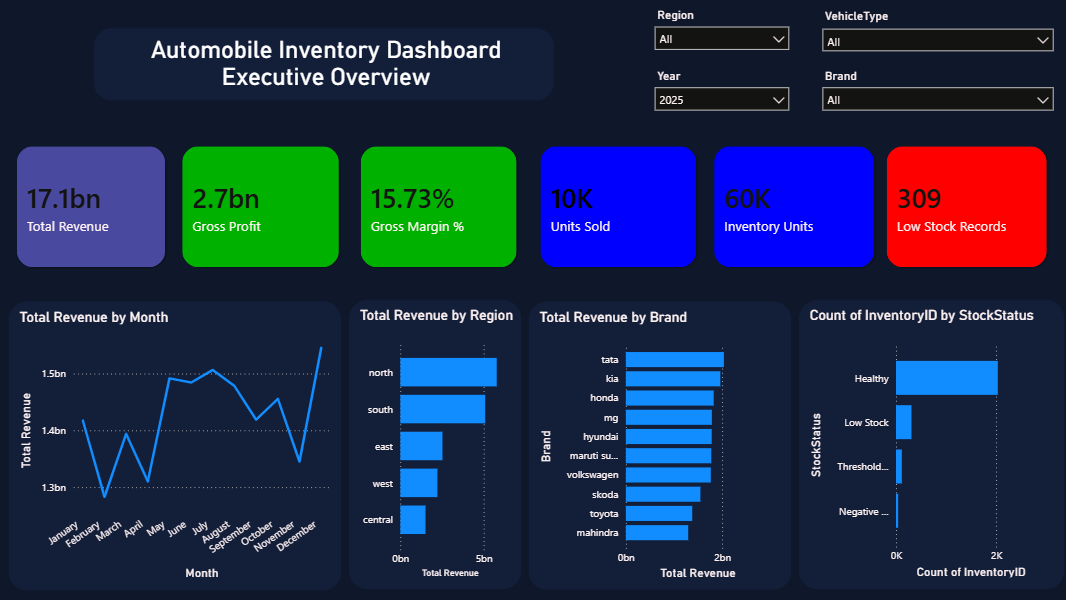

This screenshot's page, from the dashboard's own definition file:
{"tool":"powerbi","page":{"name":"Executive Overview","canvas":[1280,720],"ordinal":0},"visuals":[{"type":"textbox","title":"Automobile Inventory Dashboard Executive Overview","box":[111.4,31.4,557.1,91.4],"z":0},{"type":"slicer","fields":{"Values":["DateTable.Year"]},"box":[776.8,77.4,181.4,70],"z":1},{"type":"slicer","fields":{"Values":["dim_Dealers.Region"]},"box":[776.8,4.5,181.4,72.9],"z":2},{"type":"slicer","fields":{"Values":["dim_Vehicles.Brand"]},"box":[978.2,77.4,297.1,70],"z":3},{"type":"slicer","fields":{"Values":["dim_Vehicles.VehicleType"]},"box":[978.2,4.5,297.1,72.9],"z":4},{"type":"cardVisual","fields":{"Data":["fact_Sales.Total Revenue"]},"box":[0,154.6,221.4,188.6],"z":11},{"type":"cardVisual","fields":{"Data":["fact_Sales.Gross Profit"]},"box":[198.6,154.6,231.4,188.6],"z":12},{"type":"cardVisual","fields":{"Data":["fact_Sales.Gross Margin %"]},"box":[412.9,154.6,230,188.6],"z":13},{"type":"cardVisual","fields":{"Data":["fact_Sales.Units Sold"]},"box":[628.6,154.6,230,188.6],"z":14},{"type":"cardVisual","fields":{"Data":["fact_Inventory.Inventory Units"]},"box":[837.2,154.6,235.7,188.6],"z":15},{"type":"cardVisual","fields":{"Data":["fact_Inventory.Low Stock Records"]},"box":[1044.3,154.6,235.7,188.6],"z":16},{"type":"lineChart","fields":{"Category":["DateTable.Month"],"Y":["fact_Sales.Total Revenue"]},"box":[10,360,402.9,350],"z":17},{"type":"clusteredBarChart","fields":{"Category":["dim_Dealers.Region"],"Y":["fact_Sales.Total Revenue"]},"box":[418.6,358.6,210,350],"z":18},{"type":"clusteredBarChart","fields":{"Category":["fact_Inventory.StockStatus"],"Y":["CountNonNull(fact_Inventory.InventoryID)"]},"box":[958.6,358.6,321.4,350],"z":19},{"type":"clusteredBarChart","fields":{"Category":["dim_Vehicles.Brand"],"Y":["fact_Sales.Total Revenue"]},"box":[634.3,360,318.6,350],"z":20}]}

Visuals, with their boxes in screenshot pixels (x1, y1, x2, y2), scaled from the page's 1280x720 canvas onto the 1066x600 screenshot:
"Automobile Inventory Dashboard Executive Overview" textbox: {"left": 93, "top": 26, "right": 557, "bottom": 102}
slicer - DateTable.Year: {"left": 647, "top": 65, "right": 798, "bottom": 123}
slicer - dim_Dealers.Region: {"left": 647, "top": 4, "right": 798, "bottom": 65}
slicer - dim_Vehicles.Brand: {"left": 815, "top": 65, "right": 1062, "bottom": 123}
slicer - dim_Vehicles.VehicleType: {"left": 815, "top": 4, "right": 1062, "bottom": 65}
cardVisual - fact_Sales.Total Revenue: {"left": 0, "top": 129, "right": 184, "bottom": 286}
cardVisual - fact_Sales.Gross Profit: {"left": 165, "top": 129, "right": 358, "bottom": 286}
cardVisual - fact_Sales.Gross Margin %: {"left": 344, "top": 129, "right": 535, "bottom": 286}
cardVisual - fact_Sales.Units Sold: {"left": 524, "top": 129, "right": 715, "bottom": 286}
cardVisual - fact_Inventory.Inventory Units: {"left": 697, "top": 129, "right": 894, "bottom": 286}
cardVisual - fact_Inventory.Low Stock Records: {"left": 870, "top": 129, "right": 1065, "bottom": 286}
lineChart - DateTable.Month x fact_Sales.Total Revenue: {"left": 8, "top": 300, "right": 344, "bottom": 592}
clusteredBarChart - dim_Dealers.Region x fact_Sales.Total Revenue: {"left": 349, "top": 299, "right": 524, "bottom": 590}
clusteredBarChart - fact_Inventory.StockStatus x CountNonNull(fact_Inventory.InventoryID): {"left": 798, "top": 299, "right": 1065, "bottom": 590}
clusteredBarChart - dim_Vehicles.Brand x fact_Sales.Total Revenue: {"left": 528, "top": 300, "right": 794, "bottom": 592}
